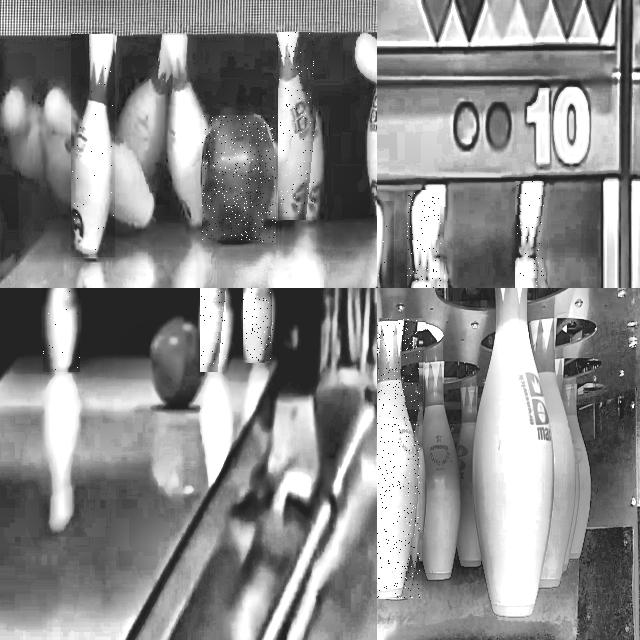bowling-ball: (203, 115, 276, 242), (151, 317, 207, 407)
bowling-pins: (473, 288, 555, 616), (530, 296, 577, 587), (377, 318, 420, 599), (71, 35, 114, 255), (421, 359, 461, 579), (279, 32, 314, 218), (564, 376, 592, 558), (457, 374, 482, 566), (43, 288, 80, 371), (516, 181, 544, 288), (426, 183, 452, 288), (243, 288, 273, 363), (200, 288, 226, 369), (415, 191, 436, 288)
